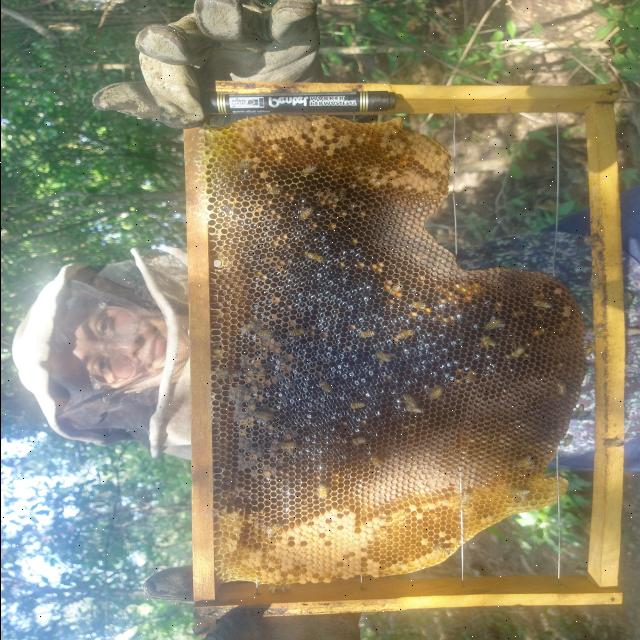cria: (239, 482, 525, 585), (238, 113, 450, 198), (551, 285, 582, 334)
marco: (201, 99, 586, 599)
